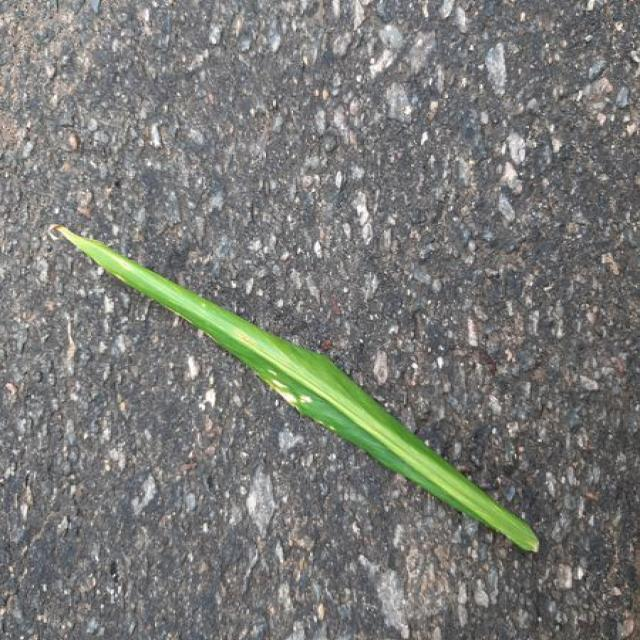ginger: (48, 225, 540, 552)
